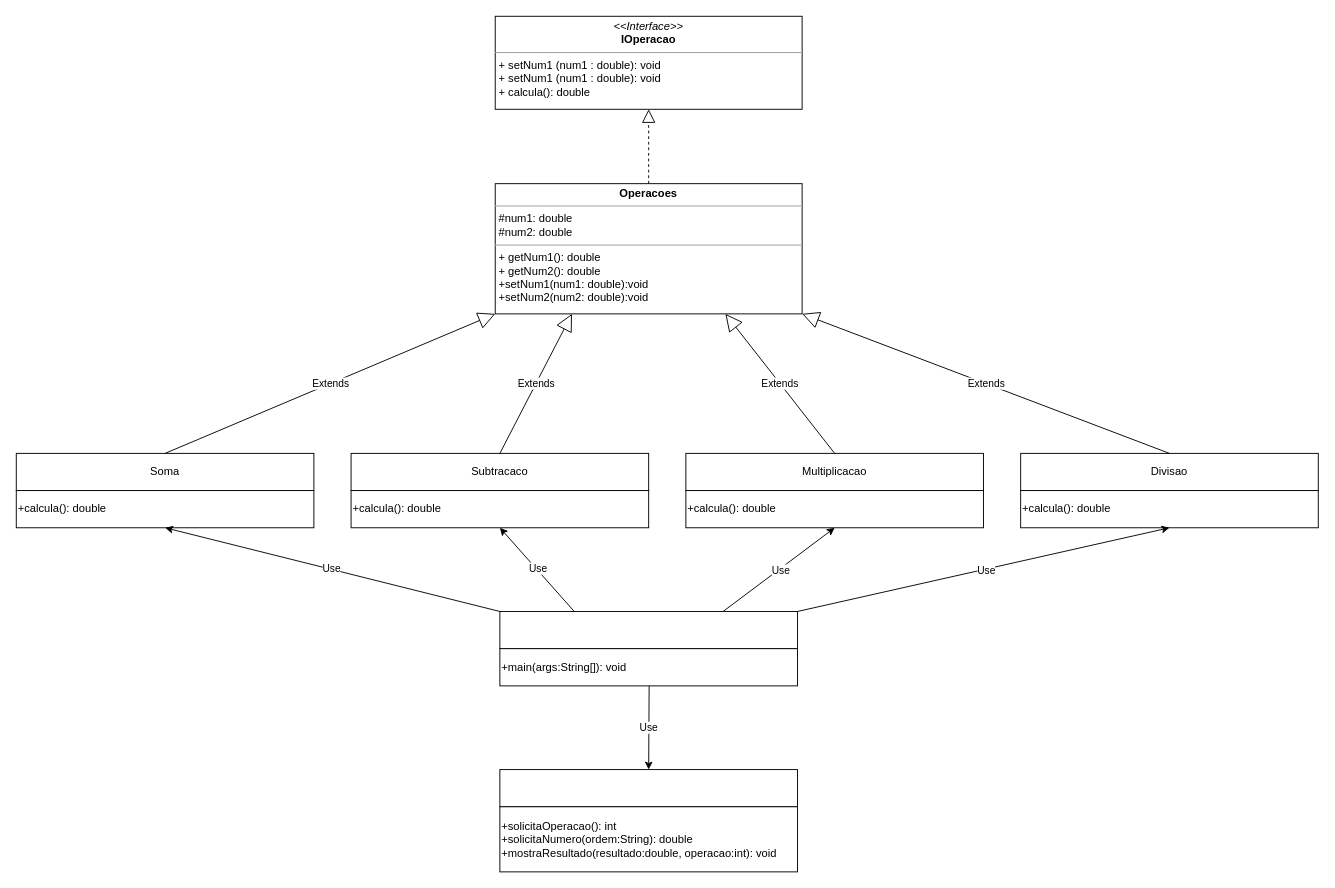
Image size: 1335x888. Some labels were removed from this diagram. Each missing label, with the box of its shape:
EntradaSaida: (499, 769, 797, 807)
Principal: (499, 611, 797, 649)
